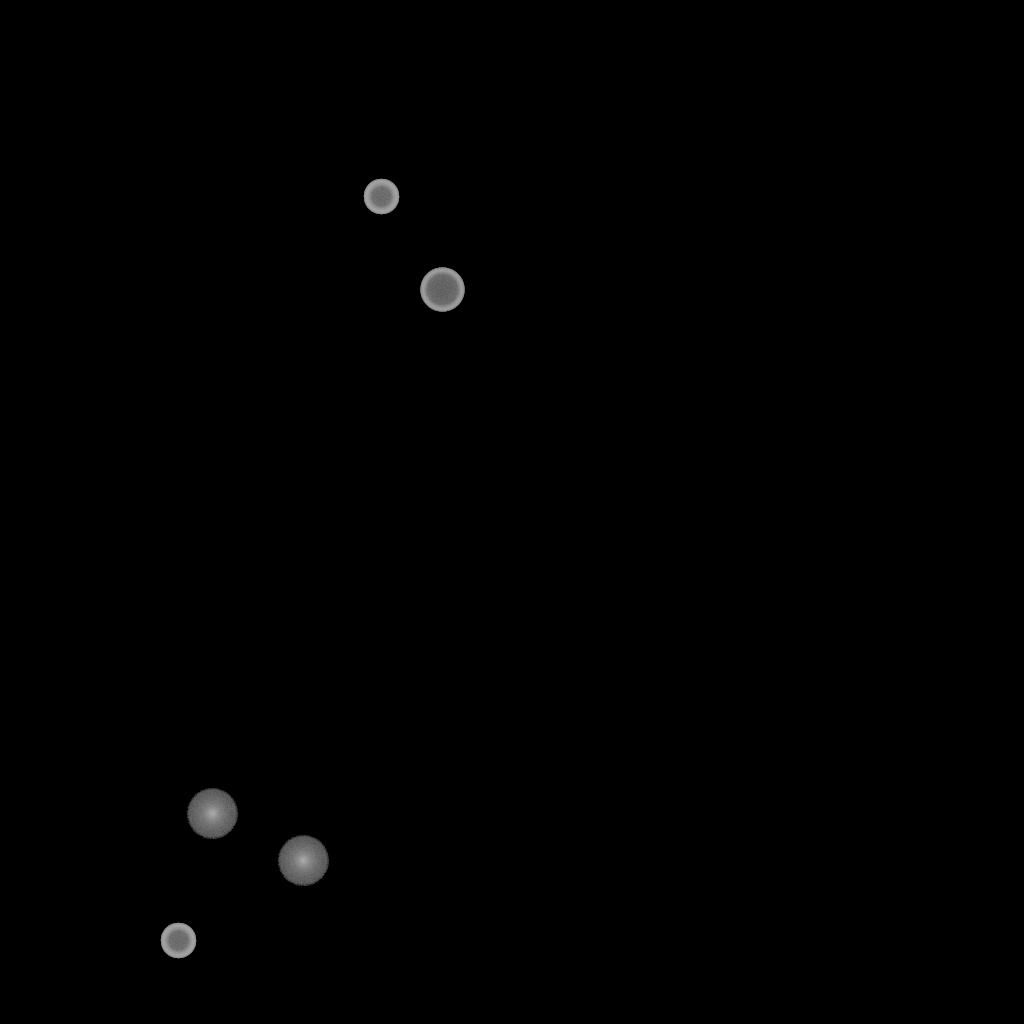depth:-60: (363, 179, 399, 215), (160, 923, 196, 959)
depth:-70: (420, 268, 464, 312)
depth:20: (277, 836, 329, 886), (186, 789, 238, 839)
